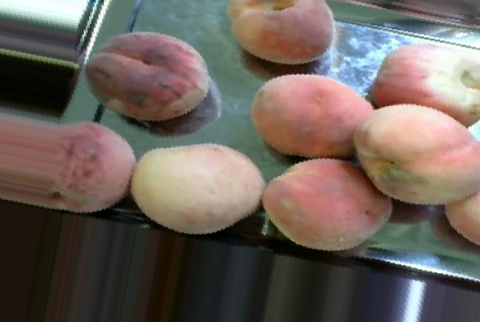Peach: (129, 140, 261, 234), (359, 103, 478, 205), (265, 158, 391, 250), (89, 31, 209, 122), (252, 73, 370, 160), (372, 43, 480, 130), (229, 0, 336, 64)
